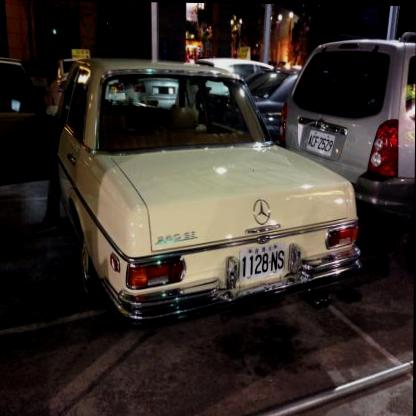License_Plate: (239, 243, 286, 283), (307, 130, 336, 157)
